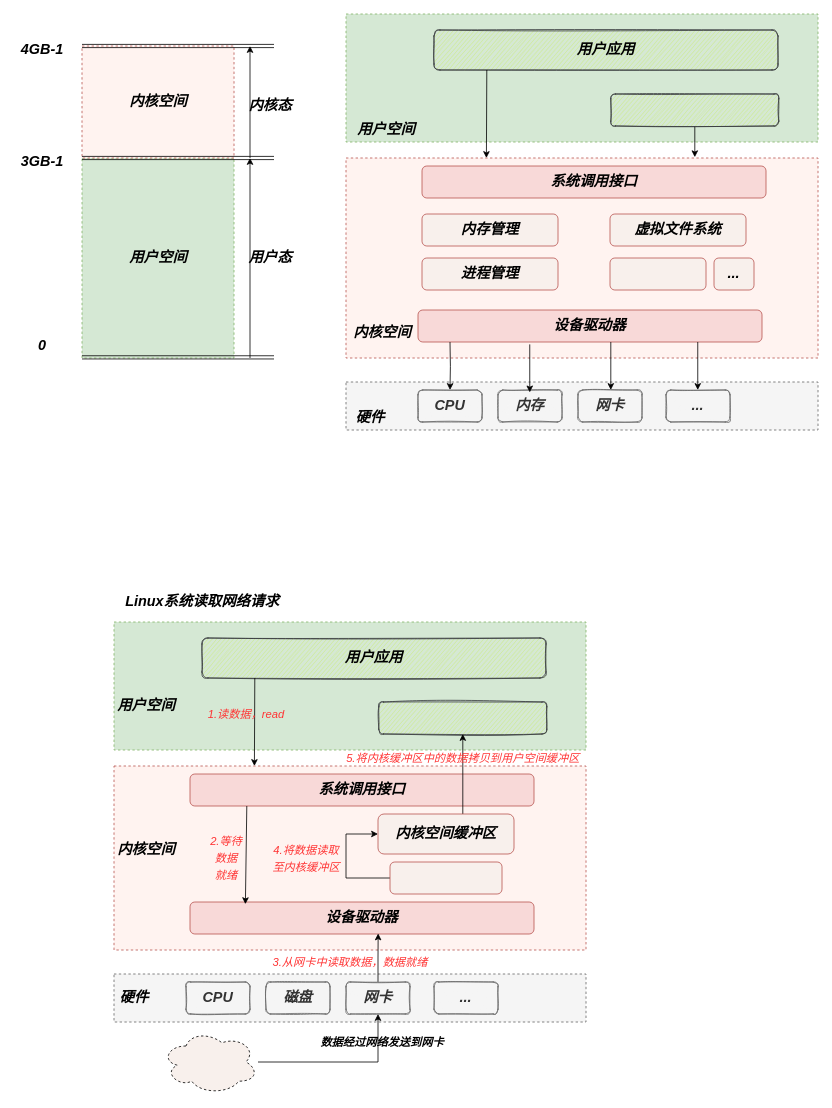
Some shapes in this 832 by 1108 pixel diagram are drawn without their labels. The shapes that lost their labels are listed below. From the top down, each one's centre as x and y in pixels, then its label:
At point (694, 109): "共享库".
At point (657, 273): "网络堆栈".
At point (462, 717): "用户空间缓冲区".
At point (445, 877): "Network Stack".
At point (209, 1061): "Network".
